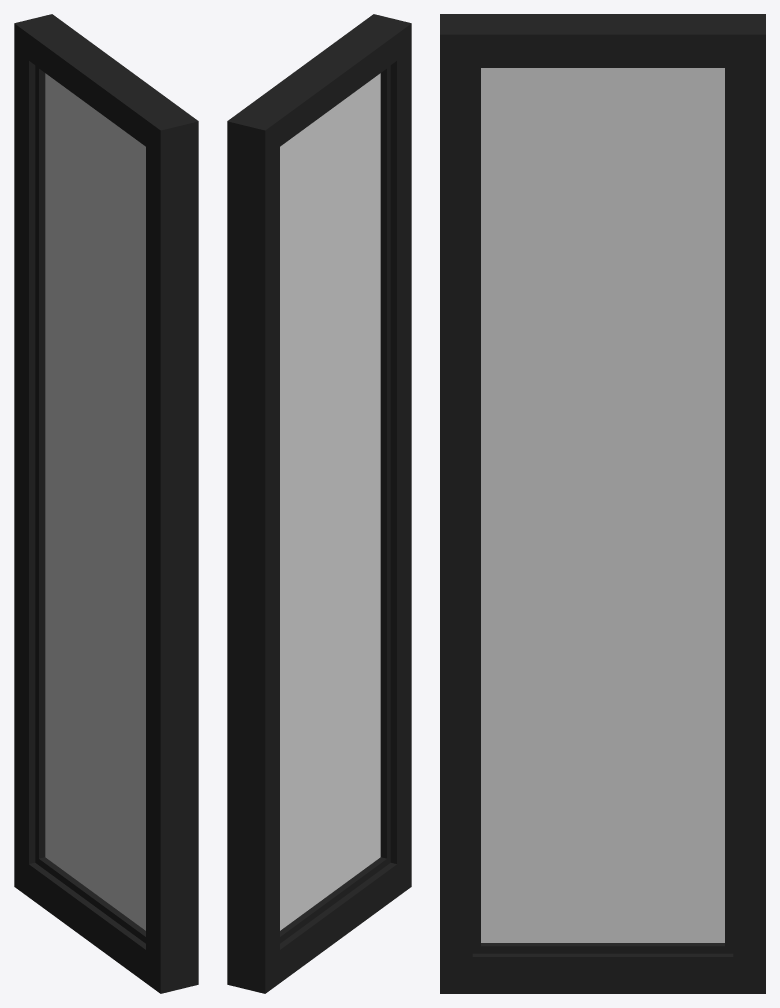
Rendered from wall_01_S_glass.glb.
3 renders of one model, left to right at view 1: azimuth 30°, elevation 25°; view 2: azimuth 150°, elevation 25°; view 3: azimuth 270°, elevation 25°, orthographic. The views are drawn at different scales.
Visible parts, largest first — view 1: Untitled.001, Untitled; view 2: Untitled.001, Untitled; view 3: Untitled, Untitled.001.
Part boxes in pixels (bbox=[...]): Untitled.001: bbox=[14, 14, 198, 993]; Untitled: bbox=[45, 73, 145, 930]; Untitled.001: bbox=[227, 14, 411, 993]; Untitled: bbox=[280, 73, 380, 930]; Untitled: bbox=[481, 68, 724, 942]; Untitled.001: bbox=[440, 14, 765, 993].
Bounding box in the file's own units: 0.18 × 3.9 × 1.2.
Materials: 2 (2 with a texture image).
